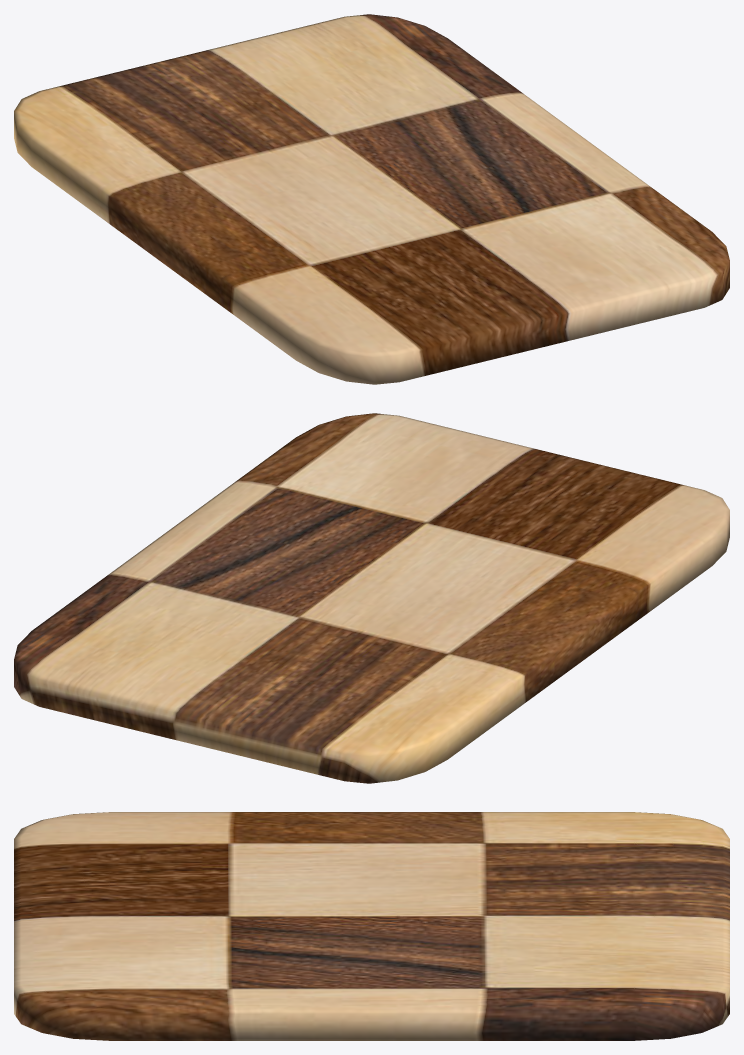
Rendered from Chopping Board.fbx.
3 renders of one model, top to bottom at view 1: azimuth 30°, elevation 25°; view 2: azimuth 150°, elevation 25°; view 3: azimuth 270°, elevation 25°, orthographic.
Visible parts, largest first — view 1: Cube; view 2: Cube; view 3: Cube.
Boxes of the visible parts, x1,y1,x2,y2 form: Cube: (14, 14, 729, 384); Cube: (14, 413, 729, 783); Cube: (14, 812, 729, 1040).
Bounding box in the file's own units: 20 × 1.7 × 30.
